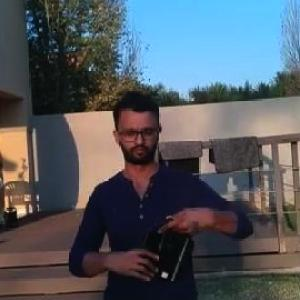follow: (64, 83, 259, 299)
